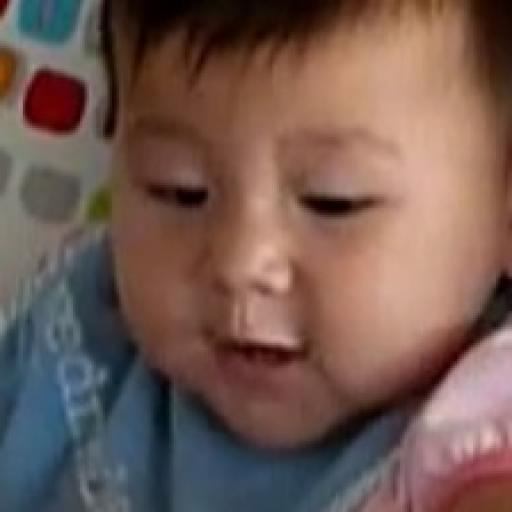Autism: (75, 0, 512, 473)
